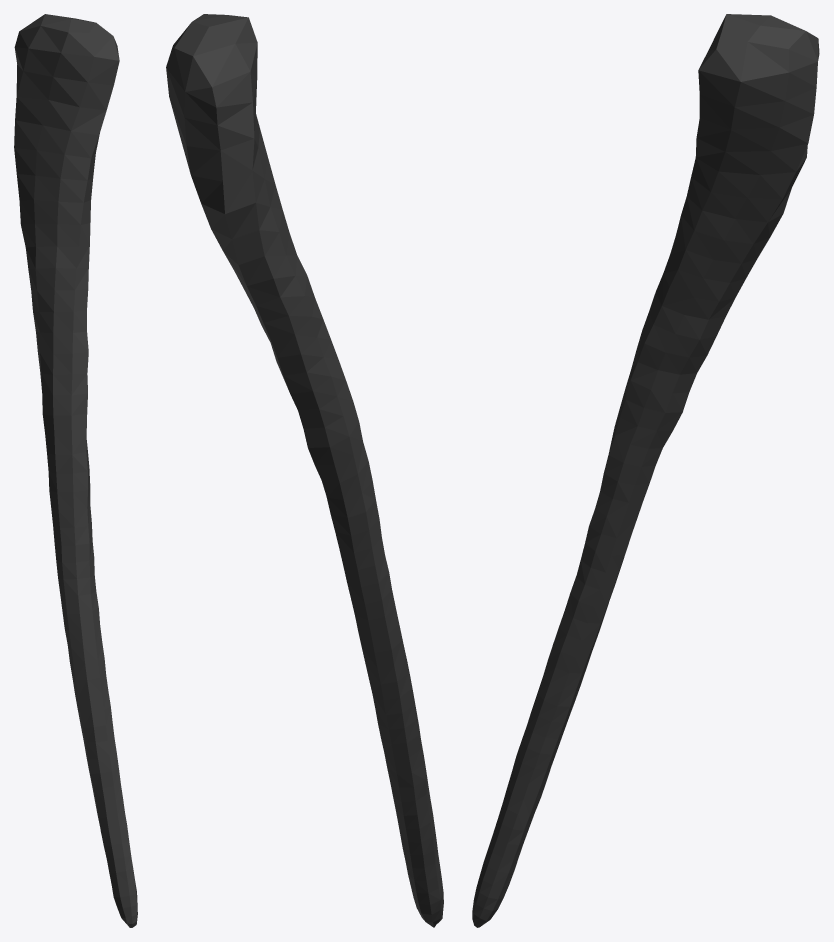
File: LHL_splint1.glb
3 views of the same model, side by side, from view 1: azimuth 30°, elevation 25°; view 2: azimuth 150°, elevation 25°; view 3: azimuth 270°, elevation 25° (orthographic). The views are drawn at different scales.
Parts seen in each view (by area): view 1: LHL_splint1; view 2: LHL_splint1; view 3: LHL_splint1.
Part boxes in pixels (left/top/right/bottom): LHL_splint1: left=14, top=14, right=137, bottom=927; LHL_splint1: left=166, top=14, right=443, bottom=927; LHL_splint1: left=472, top=14, right=819, bottom=927.
Bounding box in the file's own units: 5.42 × 35.47 × 11.89.
1 material, 1 textured.
